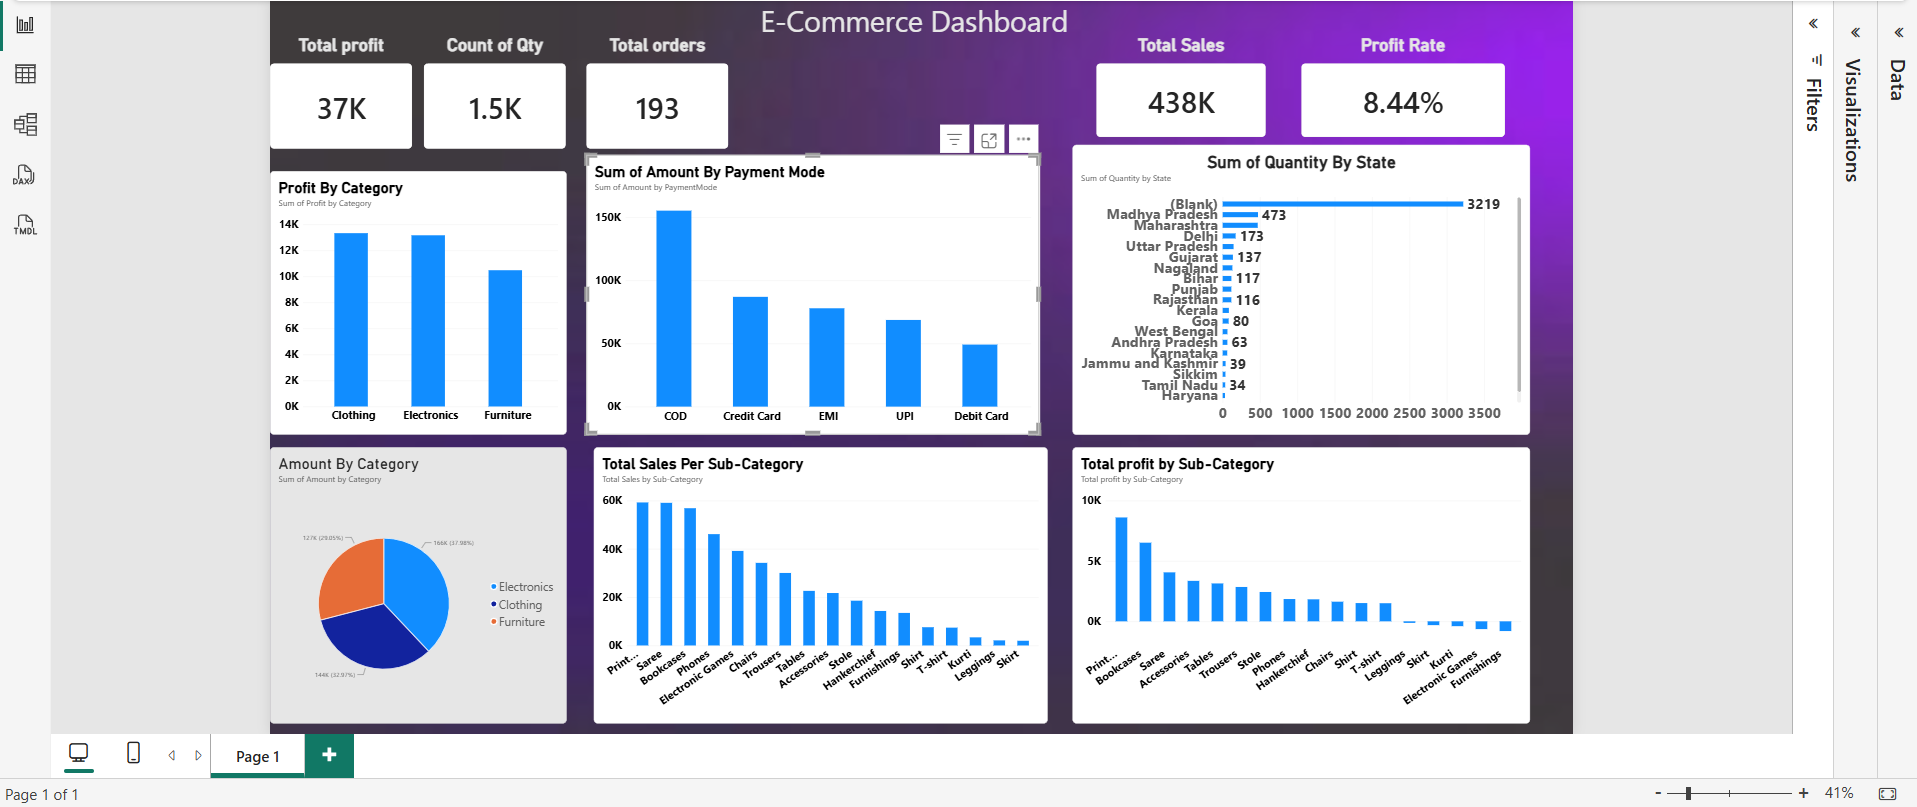

This screenshot's page, from the dashboard's own definition file:
{"tool":"powerbi","page":{"name":"Page 1","canvas":[2560,1440],"ordinal":0},"visuals":[{"type":"textbox","box":[10,0,2510,87.5],"z":0},{"type":"cardVisual","title":"Total profit","fields":{"Data":["Sum(Details.Profit)"]},"box":[0,66.3,279.9,224.4],"z":1000},{"type":"cardVisual","title":"Count of Qty","fields":{"Data":["CountNonNull(Details.Quantity)"]},"box":[301.8,66.3,279.9,224.4],"z":2000},{"type":"columnChart","title":"Profit By Category","fields":{"Category":["Details.Category"],"Y":["Sum(Details.Profit)"]},"box":[0,333.7,582.5,517.5],"z":3000},{"type":"pieChart","title":" Amount By Category","fields":{"Category":["Details.Category"],"Y":["Sum(Details.Amount)"]},"box":[0,876.1,582.5,542.5],"z":4000},{"type":"cardVisual","title":"Total orders","fields":{"Data":["Count(Orders.Order ID)"]},"box":[620.9,66.3,279.9,224.4],"z":5000},{"type":"cardVisual","title":"Total Sales","fields":{"Data":["Sum(Details.Amount)"]},"box":[1622.1,66.3,333.7,201.2],"z":6000},{"type":"columnChart","title":"Sum of Amount By Payment Mode","fields":{"Category":["Details.PaymentMode"],"Y":["Sum(Details.Amount)"]},"box":[620.9,301.8,890.8,549.7],"z":7000},{"type":"barChart","title":"Sum of Quantity By State","fields":{"Category":["Orders.State"],"Y":["Sum(Details.Quantity)"]},"box":[1575.5,282.2,898.2,569.3],"z":8000},{"type":"cardVisual","title":"Profit Rate","fields":{"Data":["Details.profit Rate"]},"box":[2024.6,66.3,400,201.2],"z":9001},{"type":"columnChart","title":"Total Sales Per Sub-Category","fields":{"Category":["Details.Sub-Category"],"Y":["Details.Total Sales"]},"box":[635.6,876.1,890.8,542.3],"z":9002},{"type":"columnChart","title":"Total profit by Sub-Category","fields":{"Category":["Details.Sub-Category"],"Y":["Details.Total profit"]},"box":[1575.5,876.1,898.2,542.3],"z":9003}]}

Visuals, with their boxes on the page's 2560x1440 design canvas (x1, y1, x2, y2). These are canvas units, not pixel positions in the 1917x807 screenshot, which may show the page scaled, cropped or inside an application window:
textbox: x1=10 y1=0 x2=2520 y2=88
"Total profit" cardVisual: x1=0 y1=66 x2=280 y2=291
"Count of Qty" cardVisual: x1=302 y1=66 x2=582 y2=291
"Profit By Category" columnChart: x1=0 y1=334 x2=582 y2=851
" Amount By Category" pieChart: x1=0 y1=876 x2=582 y2=1419
"Total orders" cardVisual: x1=621 y1=66 x2=901 y2=291
"Total Sales" cardVisual: x1=1622 y1=66 x2=1956 y2=268
"Sum of Amount By Payment Mode" columnChart: x1=621 y1=302 x2=1512 y2=852
"Sum of Quantity By State" barChart: x1=1576 y1=282 x2=2474 y2=852
"Profit Rate" cardVisual: x1=2025 y1=66 x2=2425 y2=268
"Total Sales Per Sub-Category" columnChart: x1=636 y1=876 x2=1526 y2=1418
"Total profit by Sub-Category" columnChart: x1=1576 y1=876 x2=2474 y2=1418
